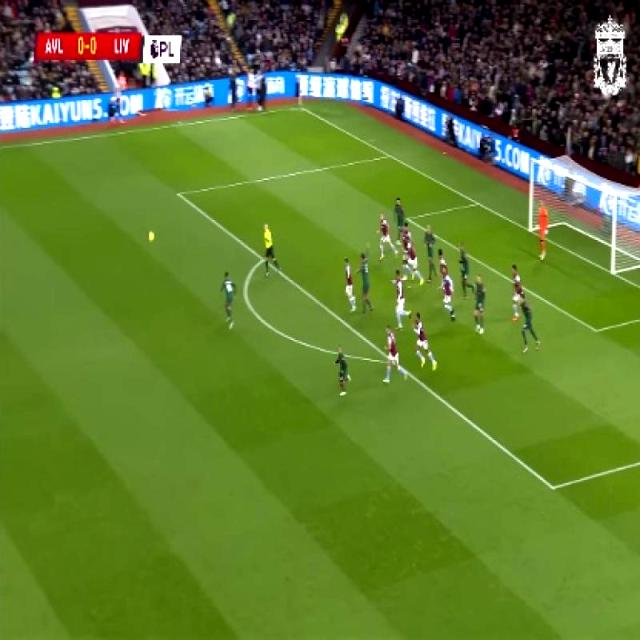bigarea_bottom_inner: (540, 469, 563, 503)
bigarea_top_inner: (169, 182, 186, 204)
bigarea_top_outter: (382, 145, 396, 165)
corner: (289, 100, 308, 114)
smallarea_bottom_inner: (586, 314, 606, 343)
smallarea_top_inner: (398, 208, 416, 230)
smallarea_top_outter: (469, 192, 486, 212)
top_arc_area_intersection: (256, 248, 270, 268)
